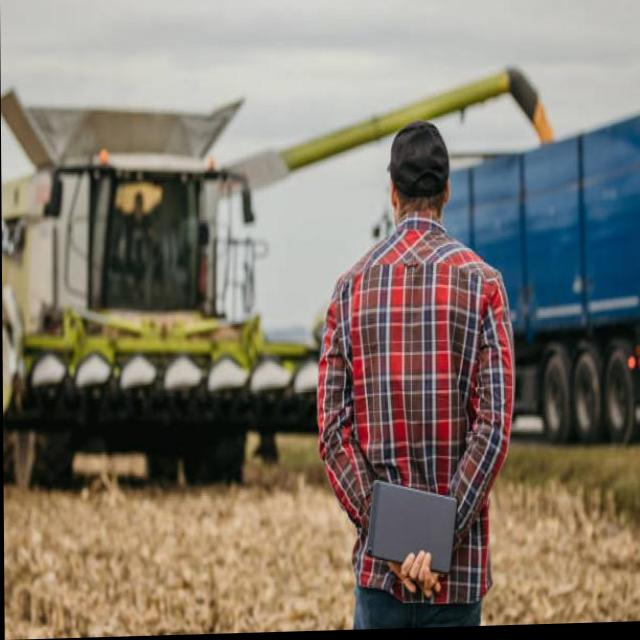no helmet: (368, 99, 457, 248)
